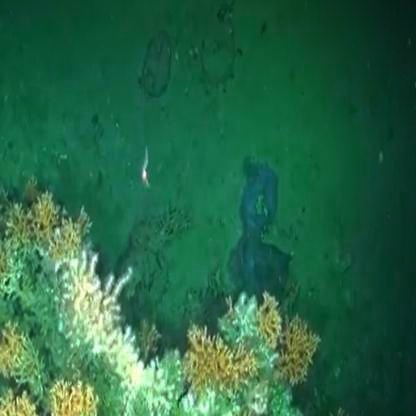plastic: (237, 169, 302, 339)
